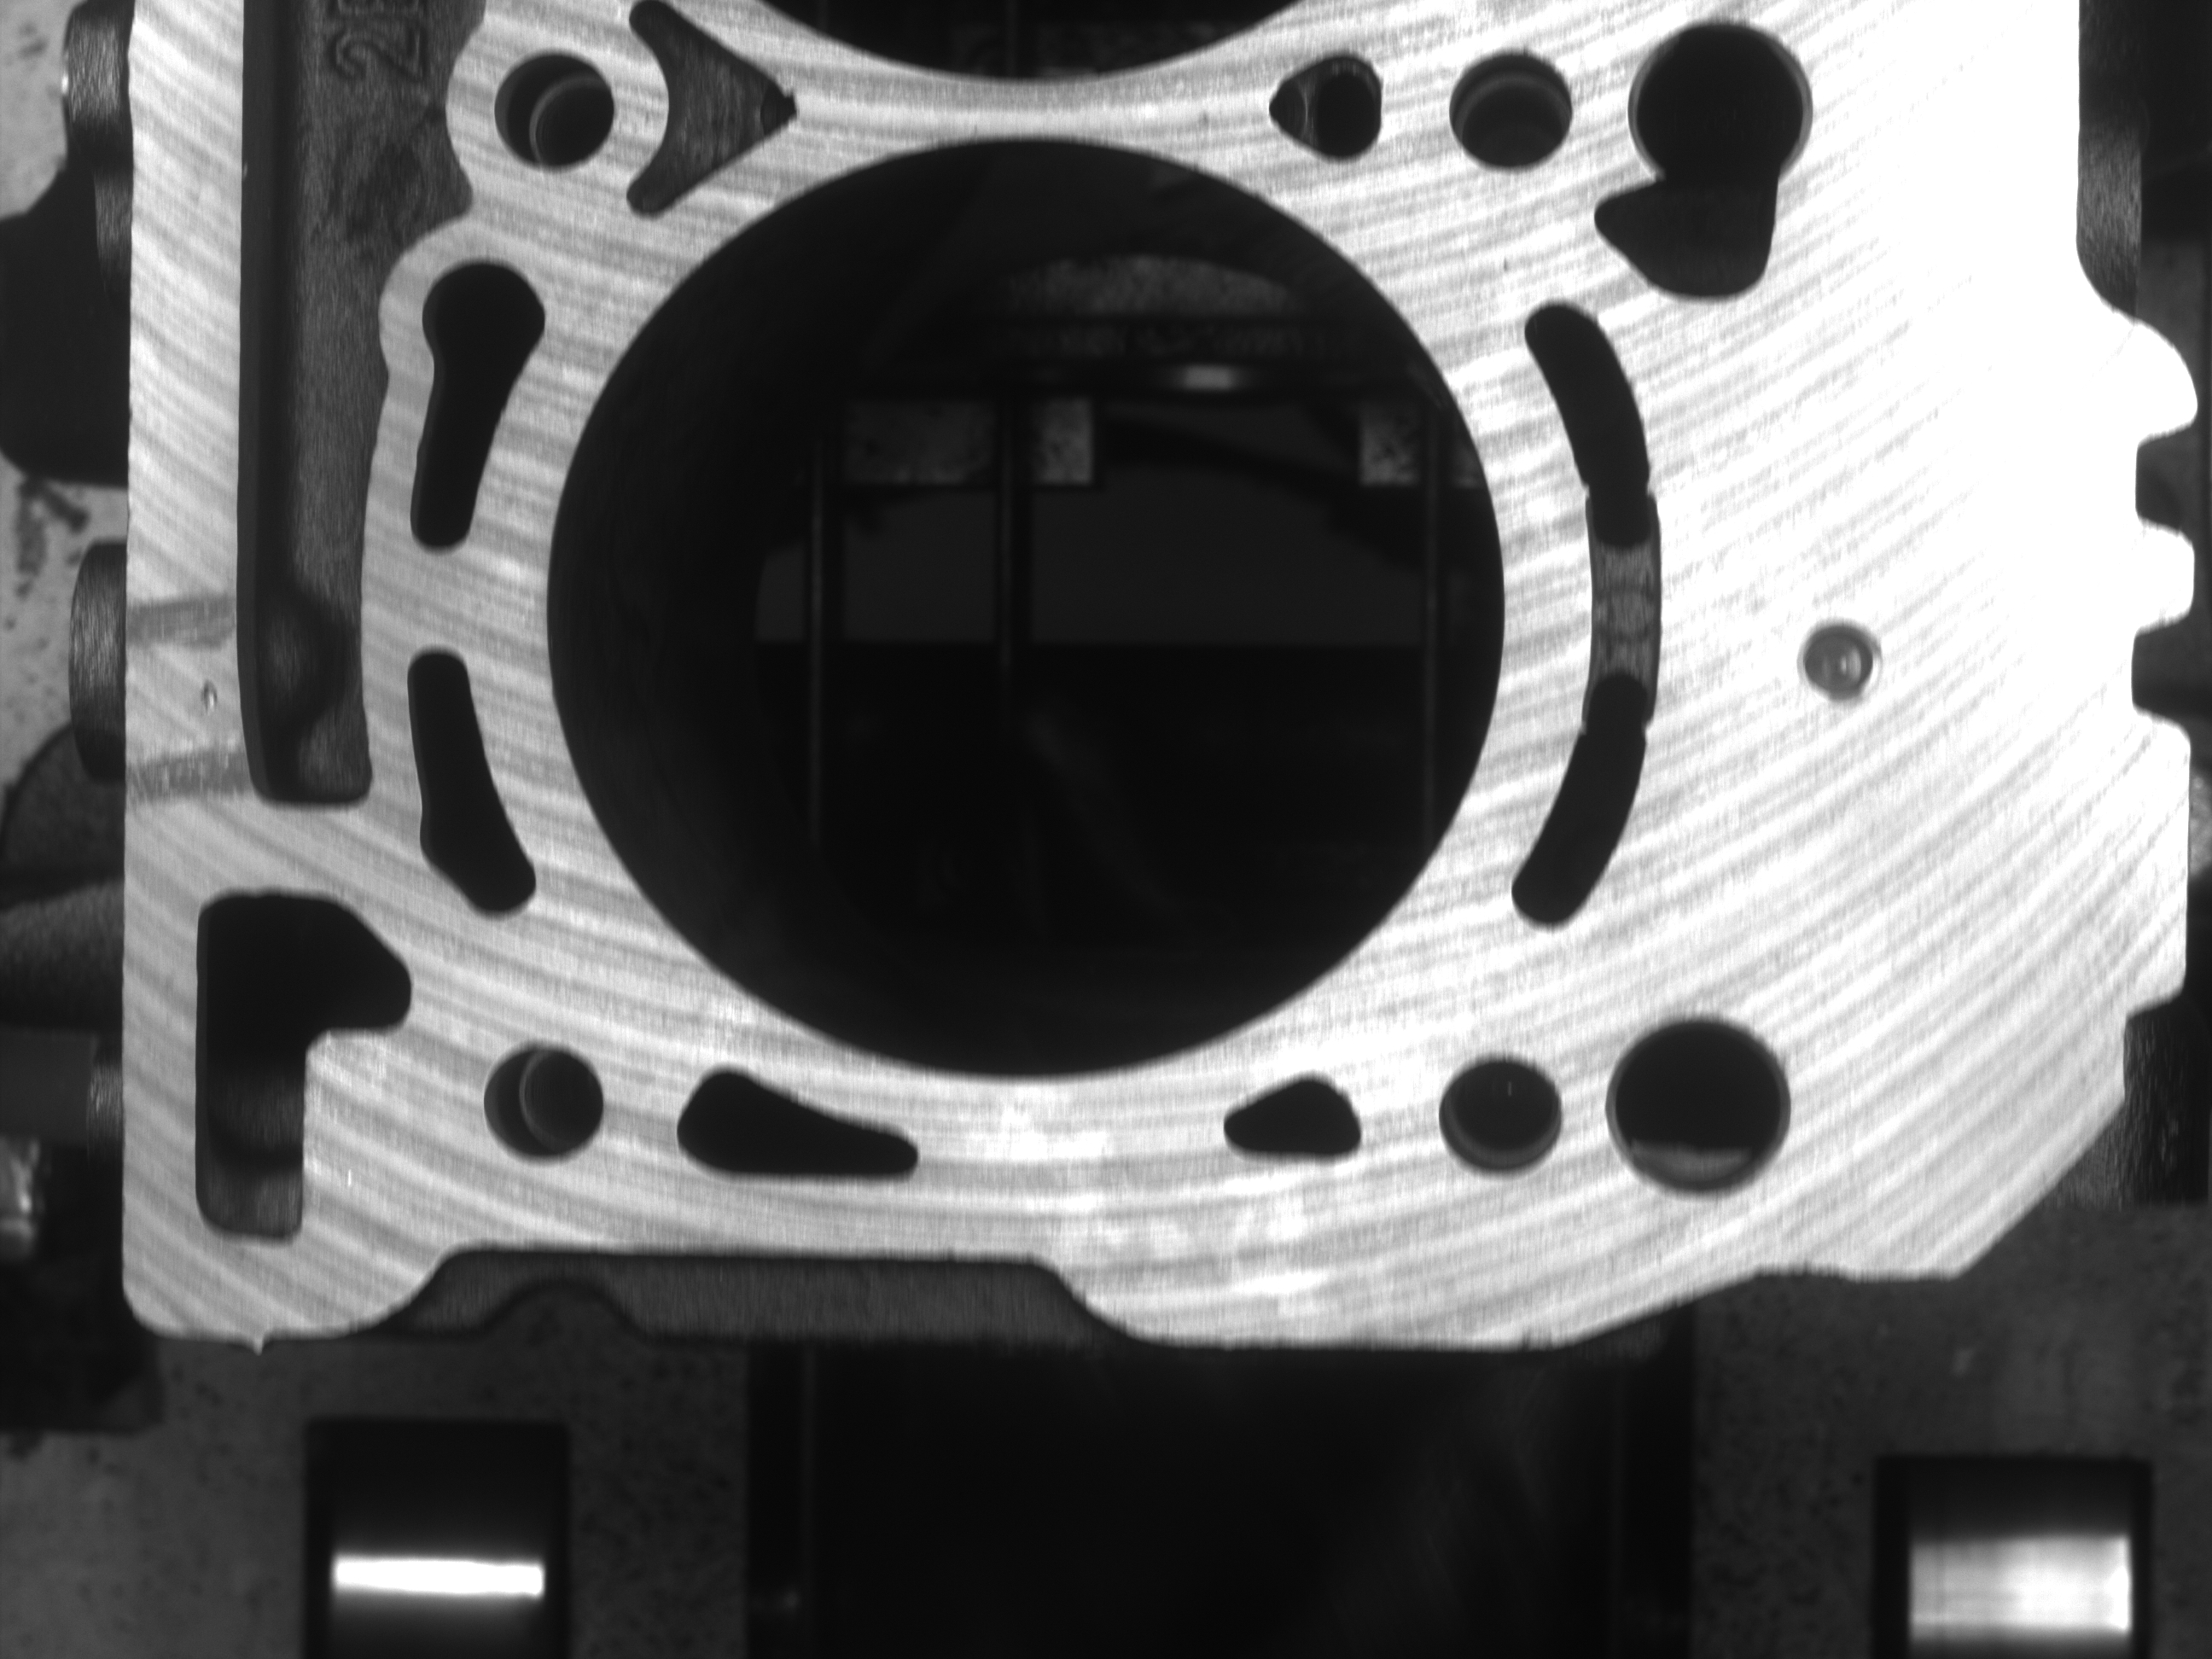crackle: (183, 667, 225, 721)
